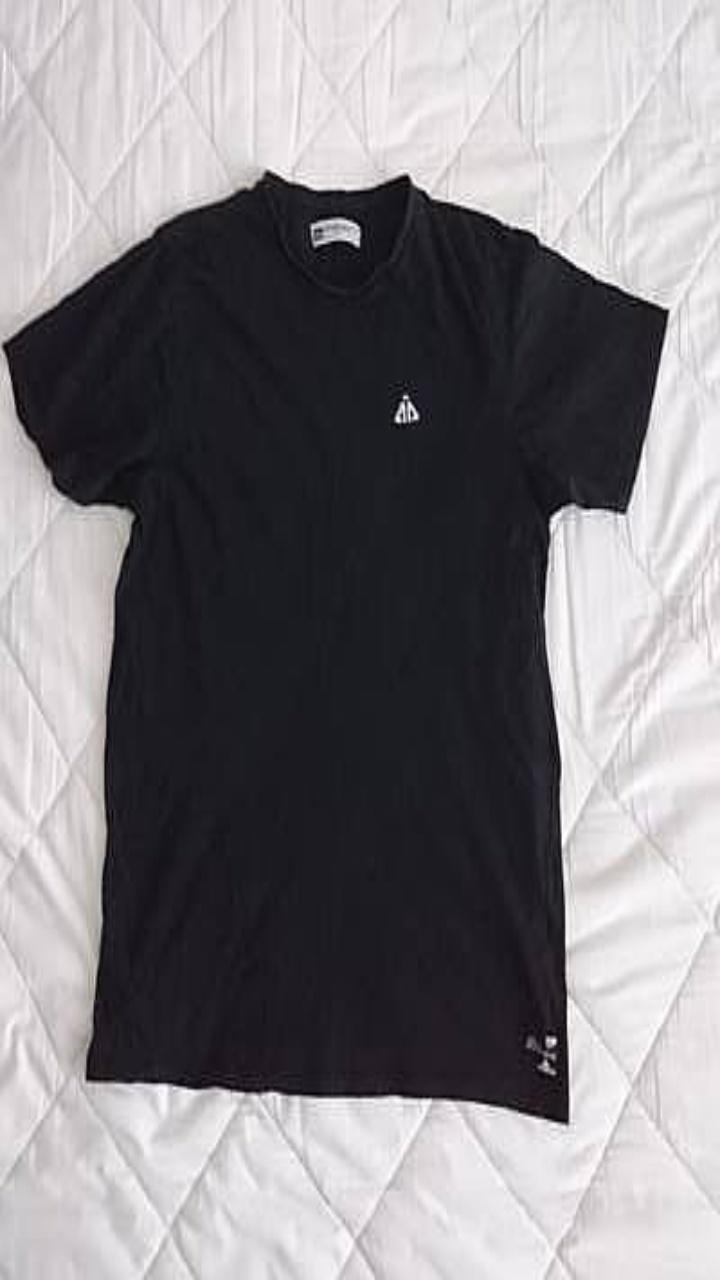T-Shirt: (2, 169, 667, 1121)
